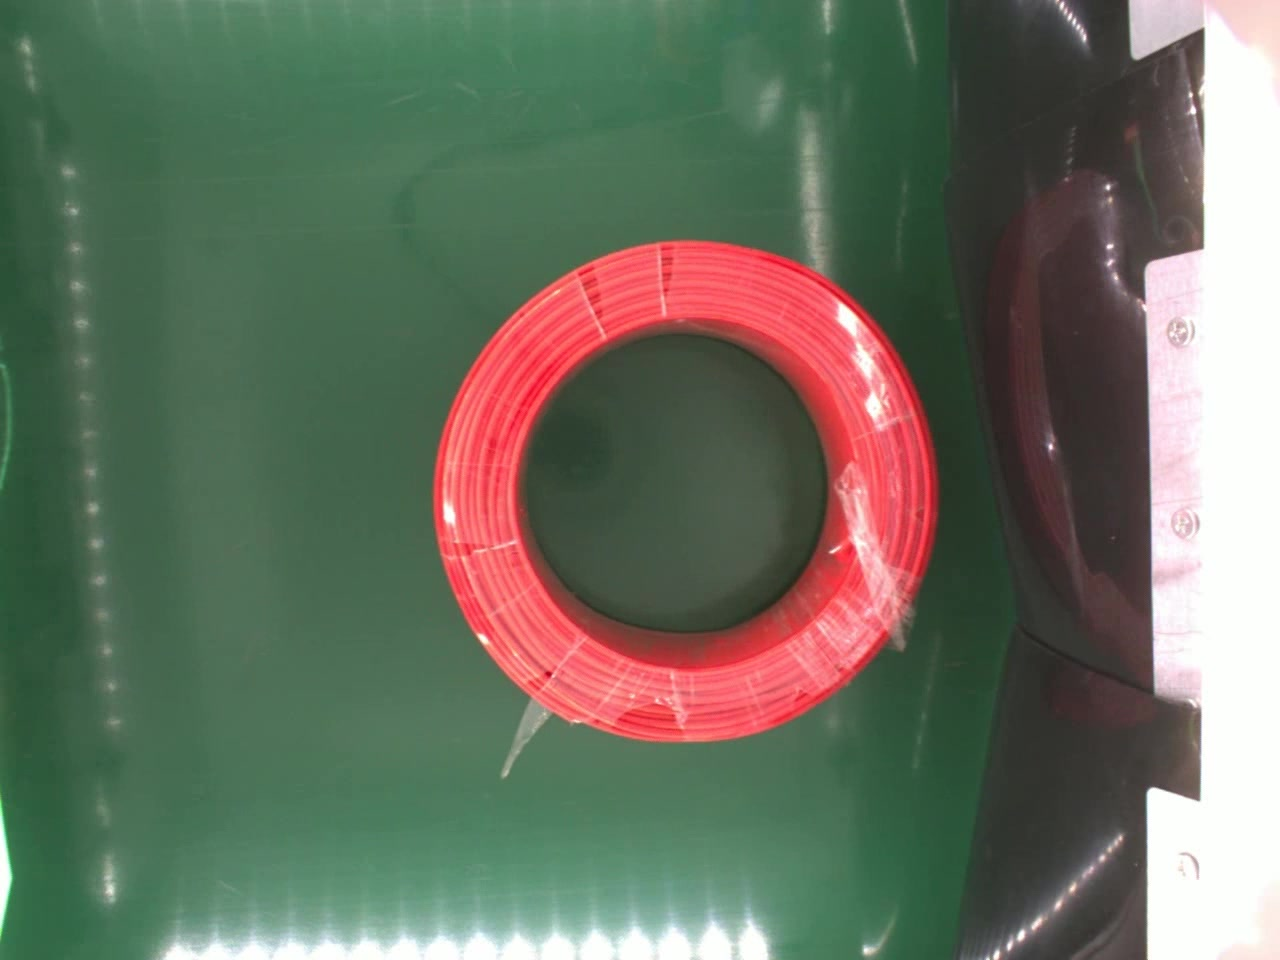red: (430, 236, 939, 743)
